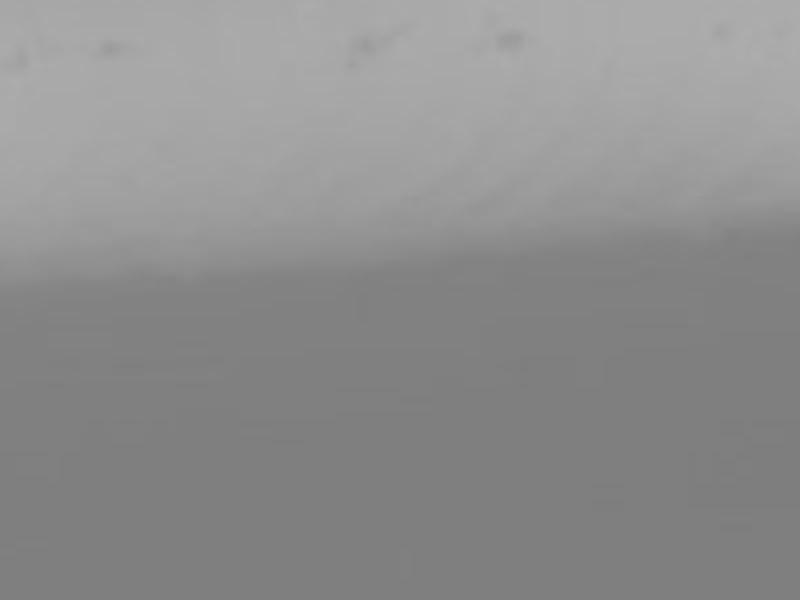defect: (344, 31, 394, 76), (494, 30, 532, 60), (701, 24, 742, 43), (99, 38, 125, 60)
